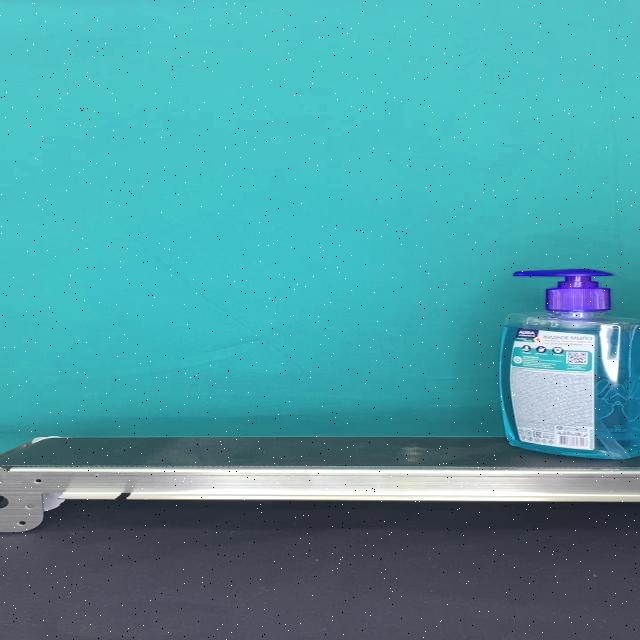Bottle: (499, 270, 640, 459)
Cap: (511, 270, 612, 312)
